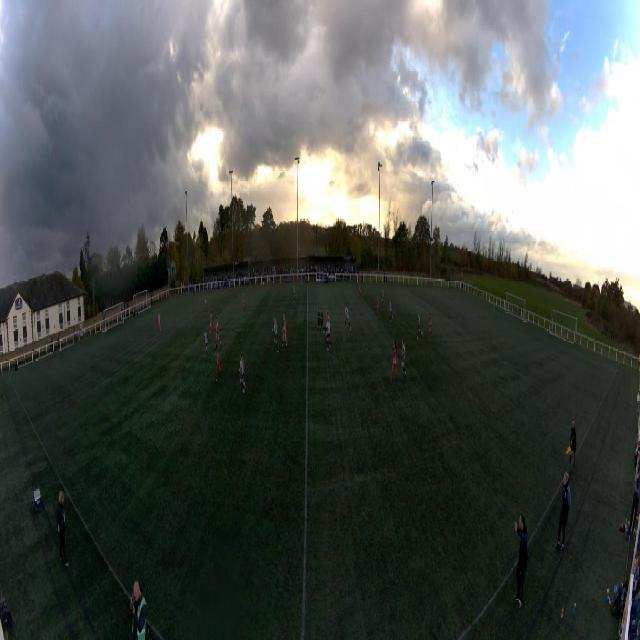ball: (205, 299, 207, 304)
player: (239, 353, 247, 395), (215, 347, 223, 382), (401, 338, 407, 379), (391, 342, 397, 381), (325, 319, 332, 350), (344, 304, 352, 331), (273, 317, 279, 353), (282, 314, 288, 348), (215, 317, 222, 346), (326, 310, 332, 342), (417, 311, 422, 339), (203, 330, 208, 357), (317, 306, 321, 335), (429, 312, 433, 338), (209, 313, 213, 339), (389, 298, 393, 323), (358, 282, 363, 298), (293, 284, 297, 303), (376, 294, 379, 318), (382, 288, 386, 305), (158, 312, 161, 332), (243, 293, 246, 311), (493, 303, 495, 318)
